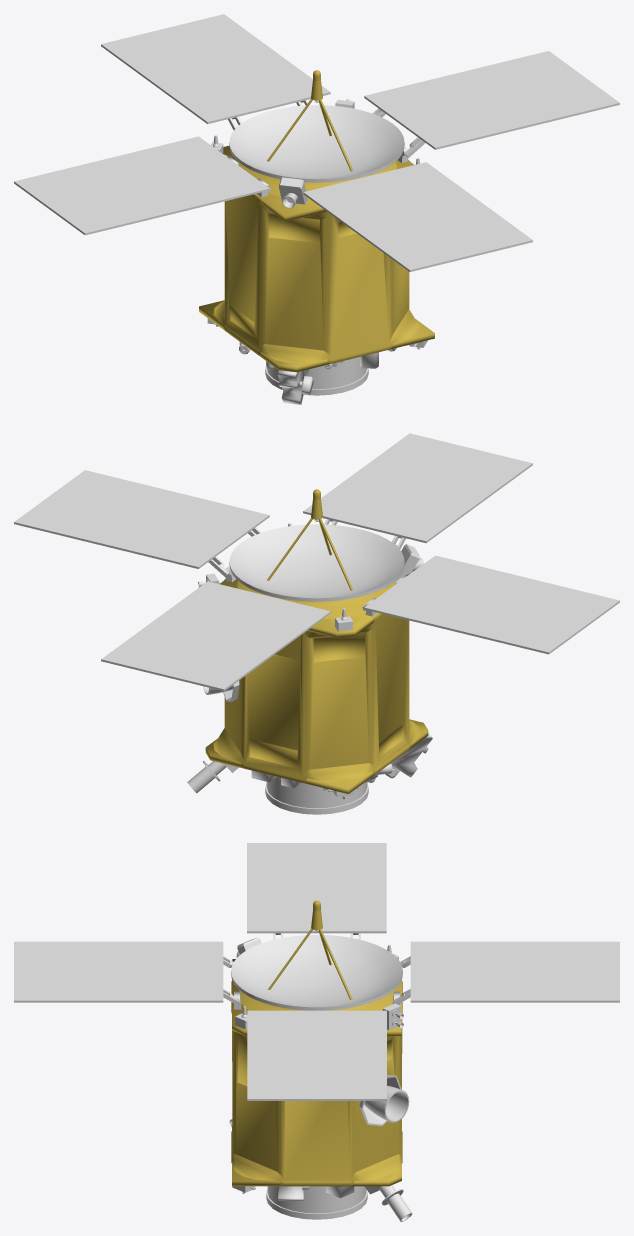
The model's file is NEAR_07.fbx.
3 views of the same model, one above another, from view 1: azimuth 30°, elevation 25°; view 2: azimuth 150°, elevation 25°; view 3: azimuth 270°, elevation 25° (orthographic).
Visible parts, largest first — view 1: NEAR; view 2: NEAR; view 3: NEAR.
Boxes of the visible parts, <box> form: NEAR: <box>14,14,619,404</box>; NEAR: <box>14,433,619,814</box>; NEAR: <box>14,843,619,1221</box>.
Bounding box in the file's own units: 529 × 286 × 529.
